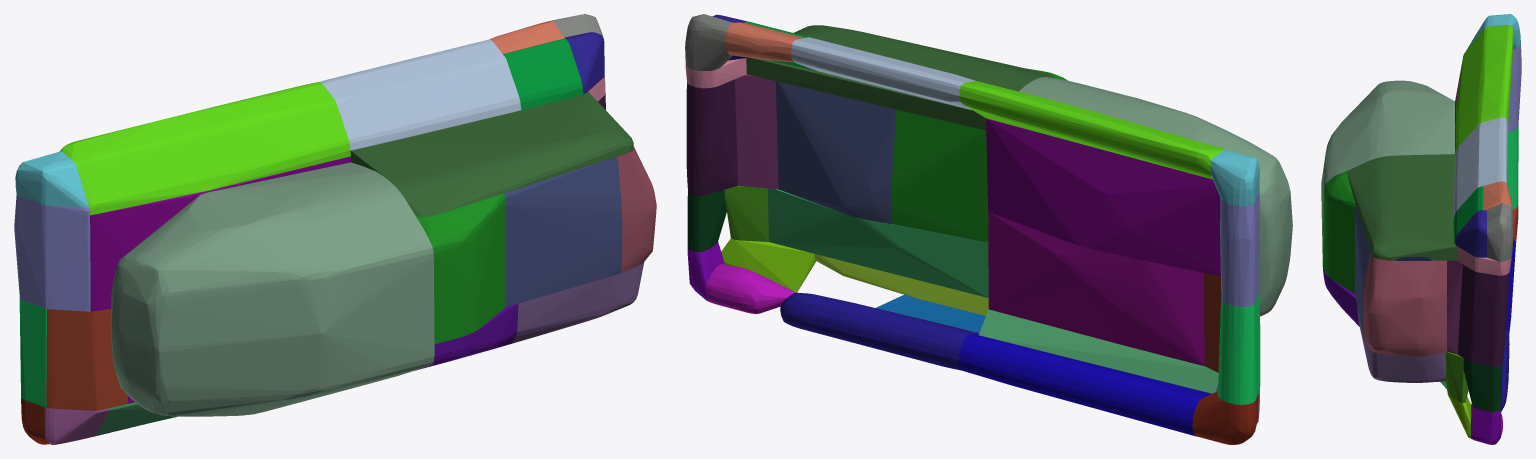
The model's file is coacd_collision.obj.
3 views of the same model, side by side, from view 1: azimuth 30°, elevation 25°; view 2: azimuth 150°, elevation 25°; view 3: azimuth 270°, elevation 25° (orthographic). The views are drawn at different scales.
Visible parts, largest first — view 1: geometry_0, geometry_17, geometry_19, geometry_16, geometry_6, geometry_8, geometry_12, geometry_31, geometry_11, geometry_1, geometry_33, geometry_13 (+9 smaller); view 2: geometry_11, geometry_14, geometry_16, geometry_10, geometry_8, geometry_5, geometry_0, geometry_19, geometry_17, geometry_20, geometry_3, geometry_6 (+17 smaller); view 3: geometry_19, geometry_0, geometry_13, geometry_17, geometry_26, geometry_6, geometry_8, geometry_1, geometry_25, geometry_35, geometry_28, geometry_16 (+13 smaller).
Boxes of the visible parts, x1,y1,x2,y2 form: geometry_0: (111,162,434,416); geometry_17: (60,82,350,215); geometry_19: (350,91,633,216); geometry_16: (504,156,622,306); geometry_6: (319,39,521,150); geometry_8: (416,193,505,343); geometry_12: (14,195,90,311); geometry_31: (46,309,127,410); geometry_11: (90,156,350,311); geometry_1: (512,262,644,343); geometry_33: (503,38,583,109); geometry_13: (617,146,656,272); geometry_11: (986,118,1220,276); geometry_14: (988,212,1204,365); geometry_16: (776,81,896,223); geometry_10: (767,188,988,297); geometry_8: (891,68,1067,242); geometry_5: (958,334,1211,436); geometry_0: (1018,77,1292,316); geometry_19: (746,25,1054,130); geometry_17: (959,81,1225,179); geometry_20: (780,292,979,370); geometry_3: (978,309,1218,393); geometry_6: (791,37,975,110); geometry_19: (1347,154,1457,260); geometry_0: (1321,80,1454,266); geometry_13: (1363,252,1446,356); geometry_17: (1455,25,1514,153); geometry_26: (1457,264,1509,366); geometry_6: (1453,117,1508,219); geometry_8: (1323,170,1356,293); geometry_1: (1357,307,1445,382); geometry_25: (1463,358,1502,412); geometry_35: (1487,203,1513,261); geometry_28: (1447,260,1462,354); geometry_16: (1355,206,1370,339).
Bounding box in the file's own units: 193 × 95.54 × 72.85.
